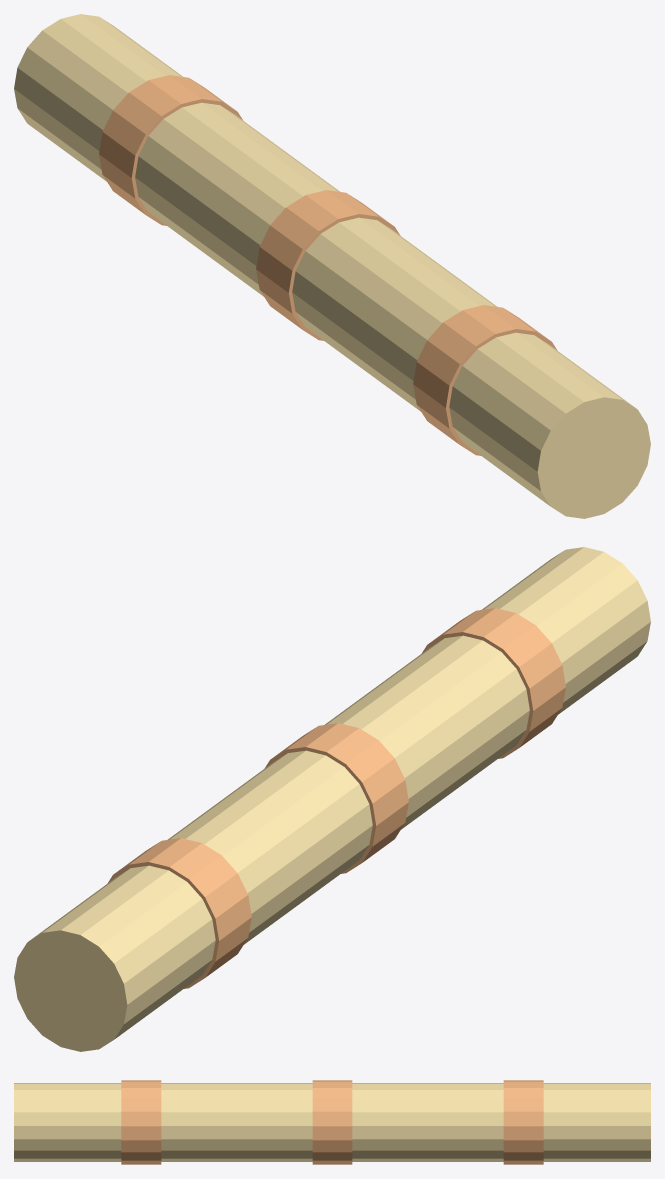
The model's file is straw_tool.glb.
The picture shows the model from 3 angles, top to bottom: view 1: azimuth 30°, elevation 25°; view 2: azimuth 150°, elevation 25°; view 3: azimuth 270°, elevation 25°; orthographic projection. The views are drawn at different scales.
Visible parts, largest first — view 1: straw_body, straw_orange_band_1, straw_orange_band_2, straw_orange_band_0; view 2: straw_body, straw_orange_band_1, straw_orange_band_0, straw_orange_band_2; view 3: straw_body, straw_orange_band_0, straw_orange_band_1, straw_orange_band_2.
Boxes of the visible parts, left/top/right/bottom form: straw_body: left=14, top=14, right=650, bottom=518; straw_orange_band_1: left=256, top=190, right=400, bottom=340; straw_orange_band_2: left=413, top=305, right=557, bottom=455; straw_orange_band_0: left=99, top=75, right=243, bottom=225; straw_body: left=14, top=547, right=650, bottom=1051; straw_orange_band_1: left=264, top=723, right=408, bottom=873; straw_orange_band_0: left=107, top=838, right=251, bottom=988; straw_orange_band_2: left=421, top=608, right=565, bottom=758; straw_body: left=14, top=1083, right=650, bottom=1161; straw_orange_band_0: left=503, top=1080, right=543, bottom=1164; straw_orange_band_1: left=312, top=1080, right=352, bottom=1164; straw_orange_band_2: left=121, top=1080, right=161, bottom=1164.
Bounding box in the file's own units: 0.053 × 0.0522 × 0.4.
